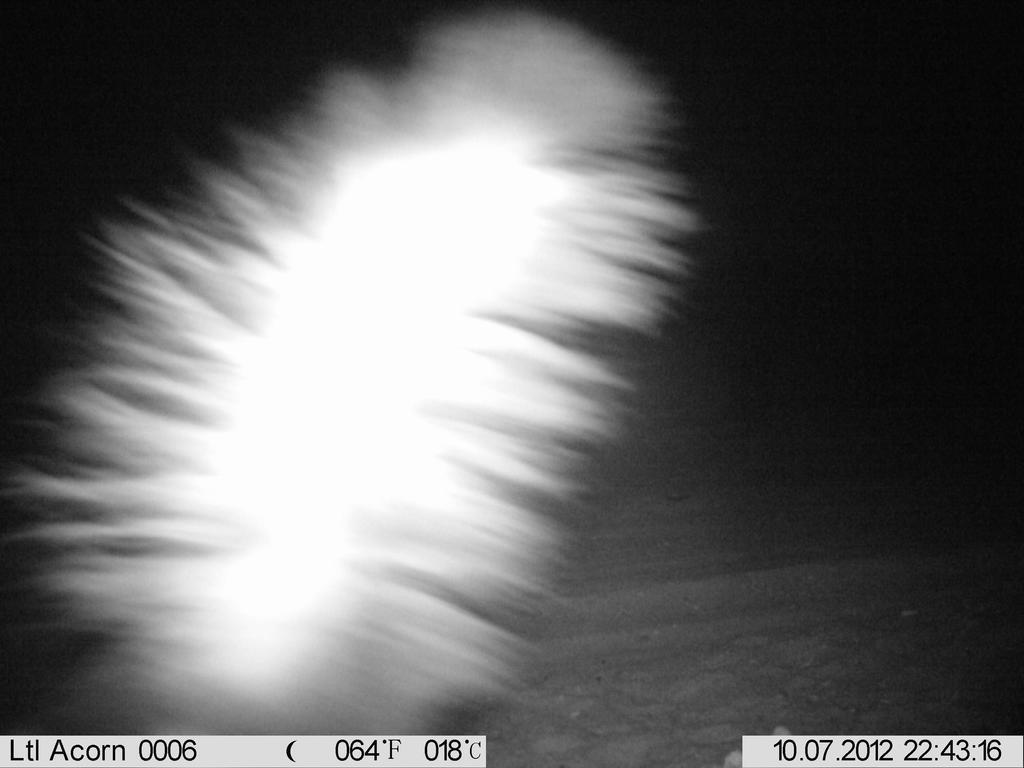skunk: (31, 9, 704, 744)
